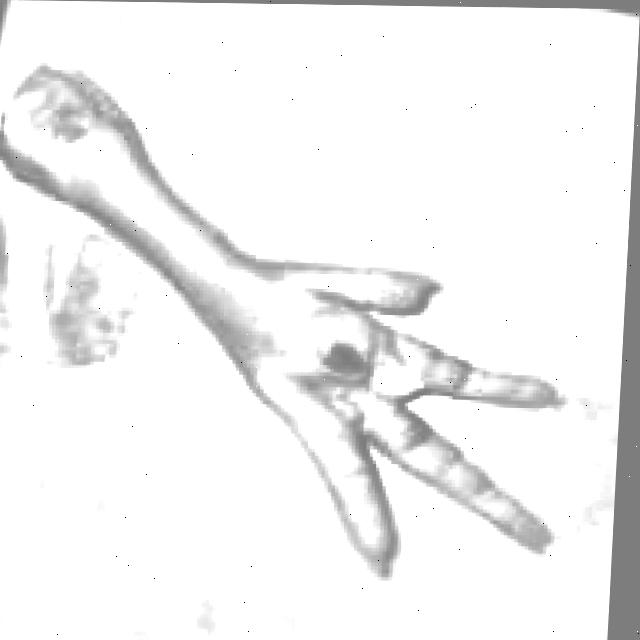Bumble foot: (292, 310, 392, 403)
